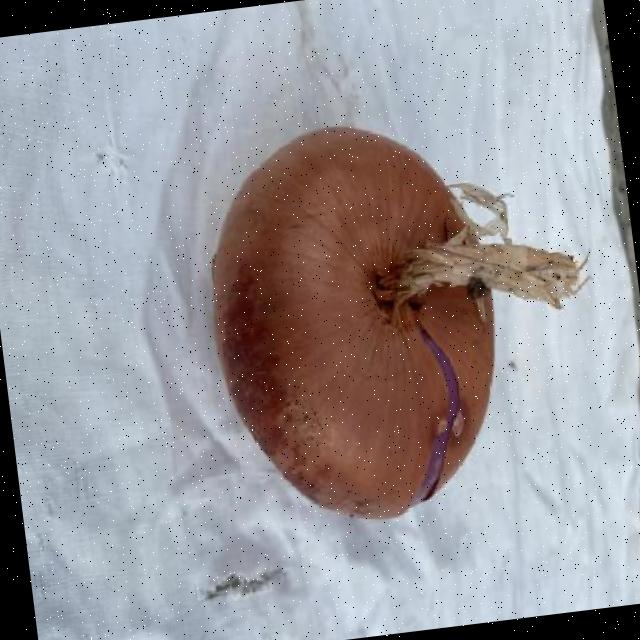Onion: (212, 127, 585, 519)
